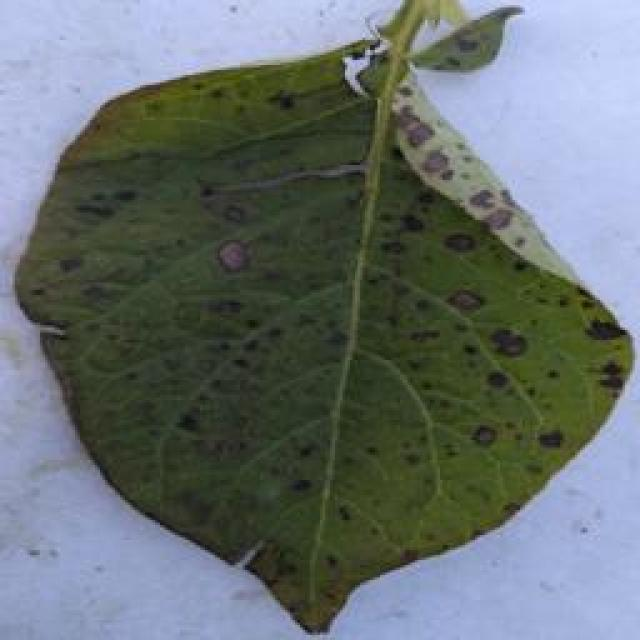Potato_Early_Blight: (19, 42, 635, 624)
